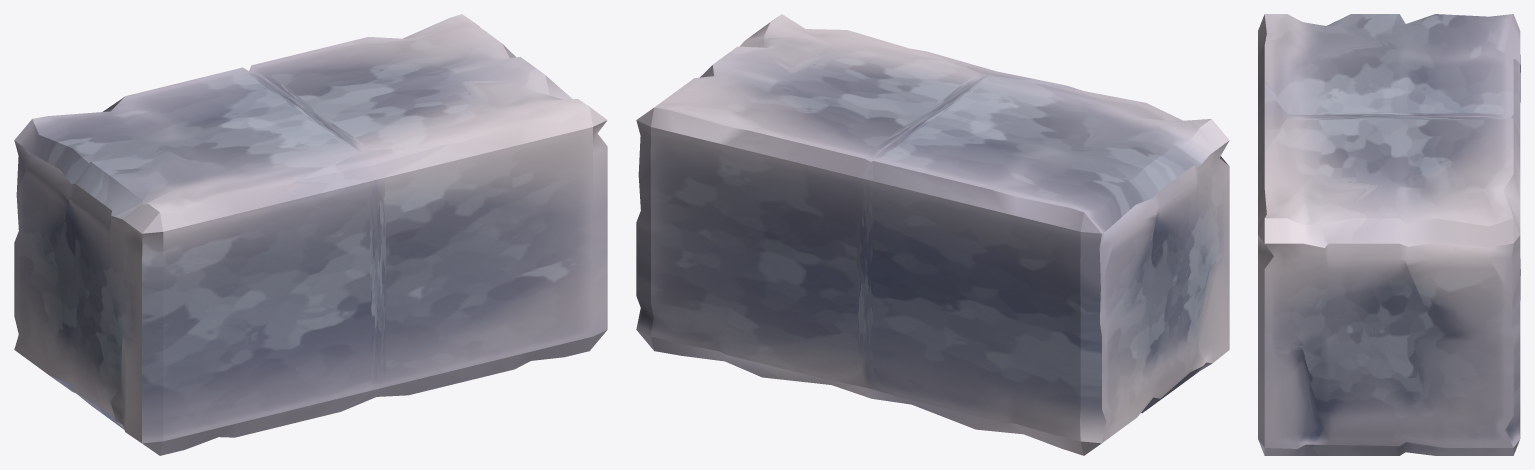
Rendered from snow_block.fbx.
3 views of the same model, side by side, from view 1: azimuth 30°, elevation 25°; view 2: azimuth 150°, elevation 25°; view 3: azimuth 270°, elevation 25° (orthographic). The views are drawn at different scales.
Parts seen in each view (by area): view 1: snowy_block7; view 2: snowy_block7; view 3: snowy_block7.
Part boxes in pixels (box(x1,y1,x2,y2)): snowy_block7: box(14, 14, 607, 455); snowy_block7: box(636, 14, 1229, 455); snowy_block7: box(1258, 14, 1520, 455).
Bounding box in the file's own units: 200 × 100 × 100.
